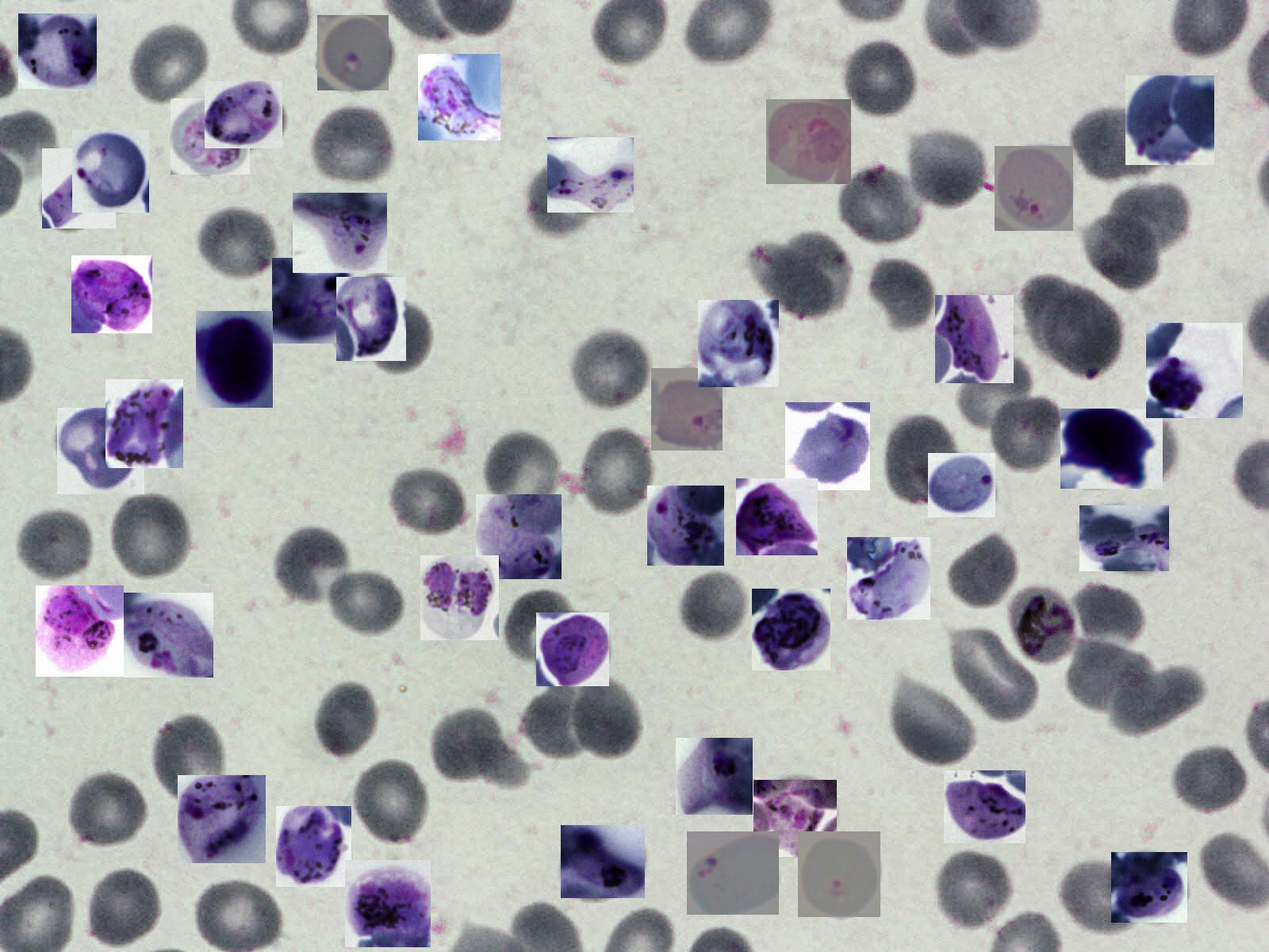Infected: (1146, 323, 1243, 418), (1060, 409, 1163, 489), (36, 585, 124, 677), (1125, 75, 1214, 165), (178, 775, 266, 863), (687, 831, 779, 915), (124, 593, 213, 678), (293, 193, 387, 273), (785, 402, 870, 490), (196, 311, 273, 408), (58, 408, 144, 494), (346, 860, 431, 947), (476, 494, 562, 579), (767, 99, 851, 184), (798, 831, 880, 917), (272, 258, 354, 344), (698, 300, 779, 387), (418, 55, 500, 140), (935, 295, 1014, 383), (105, 379, 183, 468), (847, 537, 930, 620), (420, 555, 499, 640), (995, 146, 1073, 231), (547, 137, 634, 213), (754, 780, 837, 857), (72, 130, 149, 213), (71, 255, 152, 333), (752, 589, 830, 670), (736, 478, 818, 555), (648, 486, 725, 566), (561, 825, 645, 898), (171, 98, 250, 175), (276, 806, 351, 887), (18, 13, 97, 89), (944, 770, 1026, 843), (651, 368, 723, 451), (1079, 505, 1169, 571), (676, 738, 753, 815), (42, 148, 116, 228), (336, 277, 406, 361), (536, 613, 609, 687), (317, 15, 389, 90), (1111, 852, 1187, 923), (1010, 588, 1075, 670), (205, 81, 282, 148), (928, 453, 995, 517)
Uninfected: (1022, 274, 1123, 376), (1081, 195, 1177, 294), (947, 624, 1038, 724), (885, 676, 979, 770), (1072, 102, 1175, 186), (556, 670, 646, 766), (1065, 641, 1171, 720), (427, 704, 523, 789), (108, 491, 194, 582), (270, 524, 356, 612), (836, 163, 925, 248), (568, 327, 654, 413), (309, 105, 396, 190), (350, 757, 432, 847), (575, 428, 656, 518), (931, 847, 1014, 933), (128, 21, 210, 108), (904, 125, 987, 209), (84, 866, 164, 951), (987, 392, 1067, 476), (195, 205, 279, 284), (197, 879, 289, 951), (66, 770, 148, 850), (476, 428, 559, 506), (884, 417, 957, 505), (14, 507, 96, 585), (1110, 669, 1206, 735), (956, 352, 1033, 434), (386, 463, 469, 539), (319, 563, 406, 635), (831, 34, 908, 115), (747, 248, 834, 319), (1169, 743, 1252, 817), (946, 531, 1022, 611), (311, 678, 383, 761), (781, 228, 851, 313), (677, 570, 753, 648), (861, 256, 937, 334), (157, 717, 224, 804), (1065, 859, 1141, 935), (523, 684, 592, 763), (524, 161, 600, 232), (503, 589, 573, 663), (368, 298, 430, 372), (1072, 584, 1141, 647)
